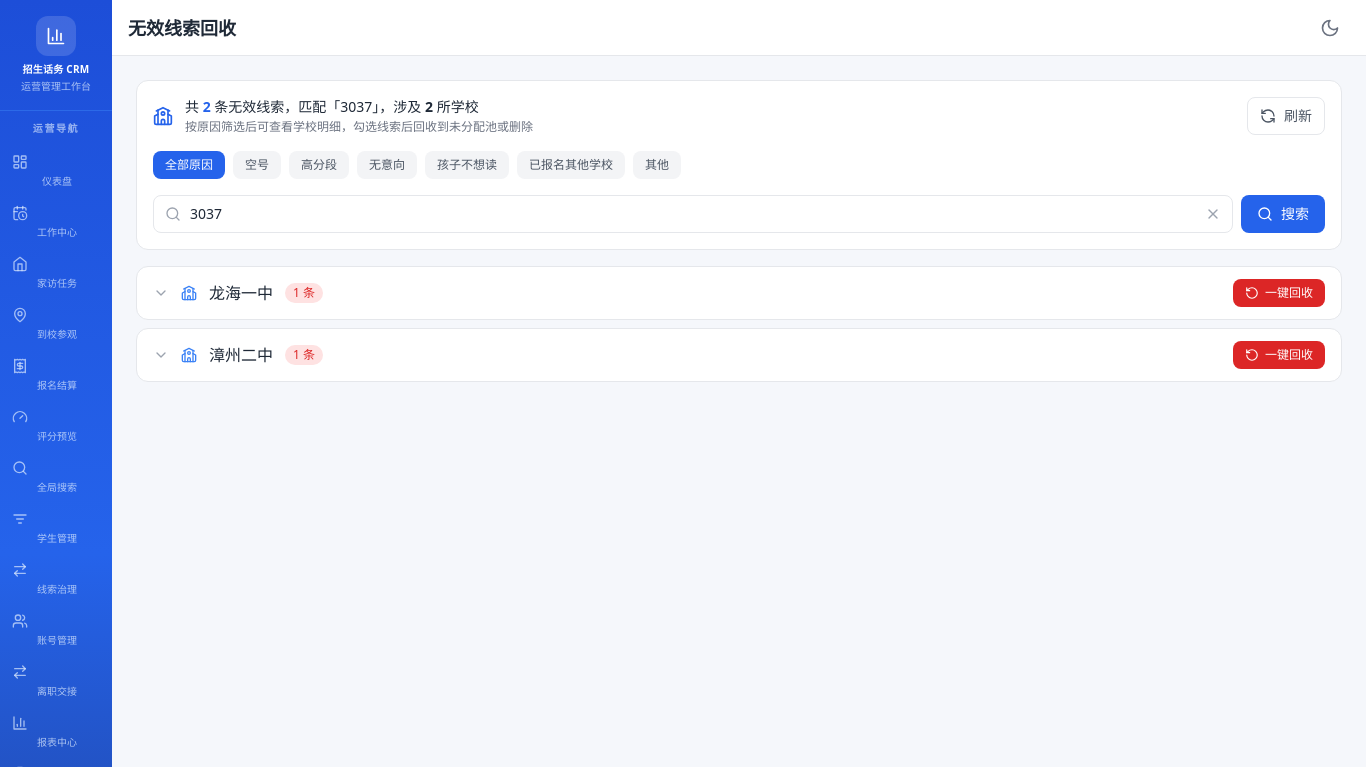
Test: InvalidStudentReclaim › passes url search query to invalid groups and expanded students
Click the text "龙海一中" at (241, 293), box x1=209 y1=281 x2=273 y2=305
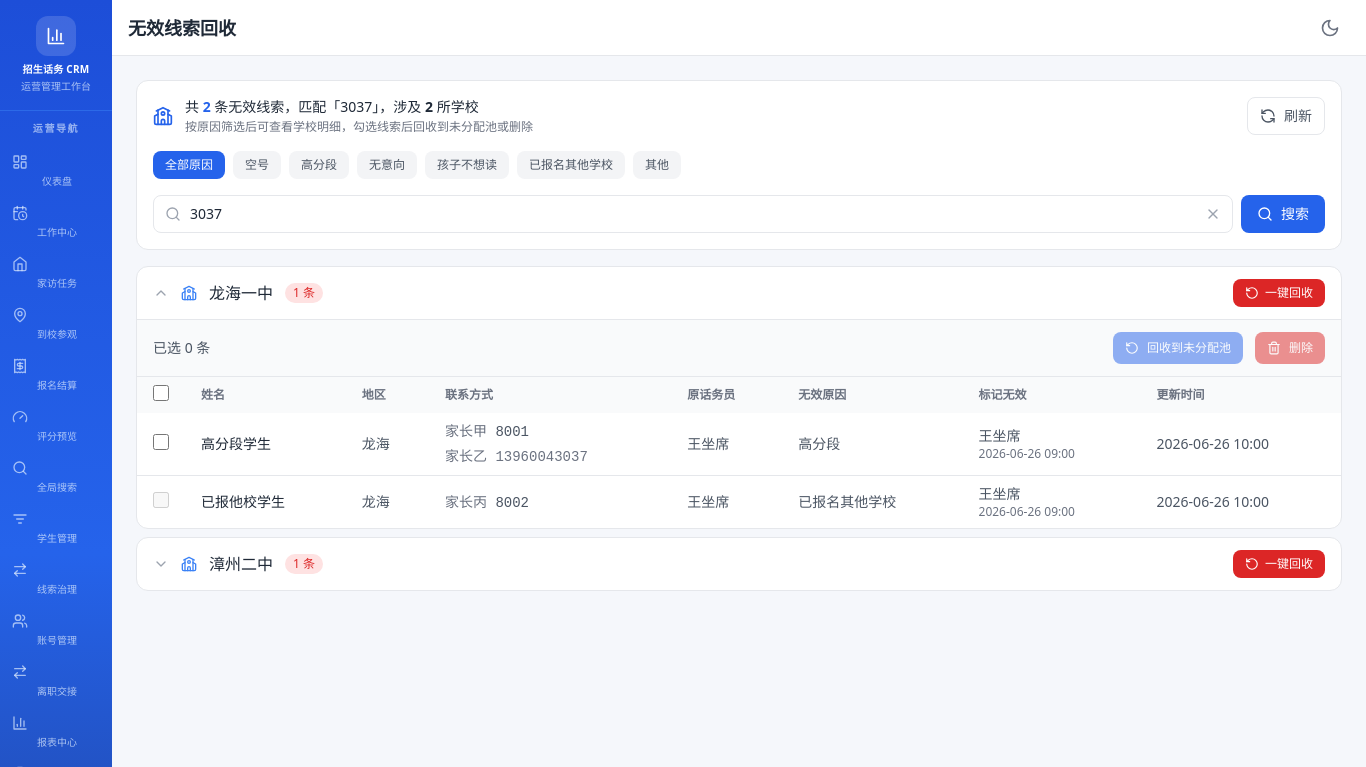
Now the text "家长乙 13960043037" is shown, box x1=445 y1=446 x2=588 y2=465
